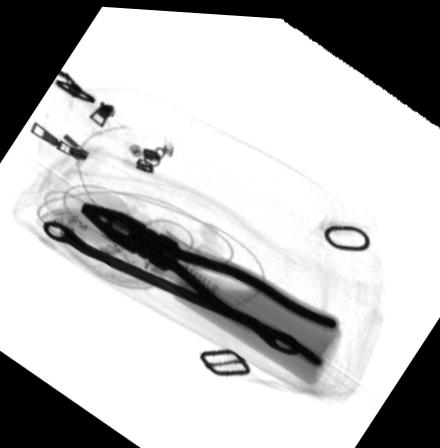Pliers: (77, 201, 337, 362)
Wrench: (44, 215, 305, 353)
